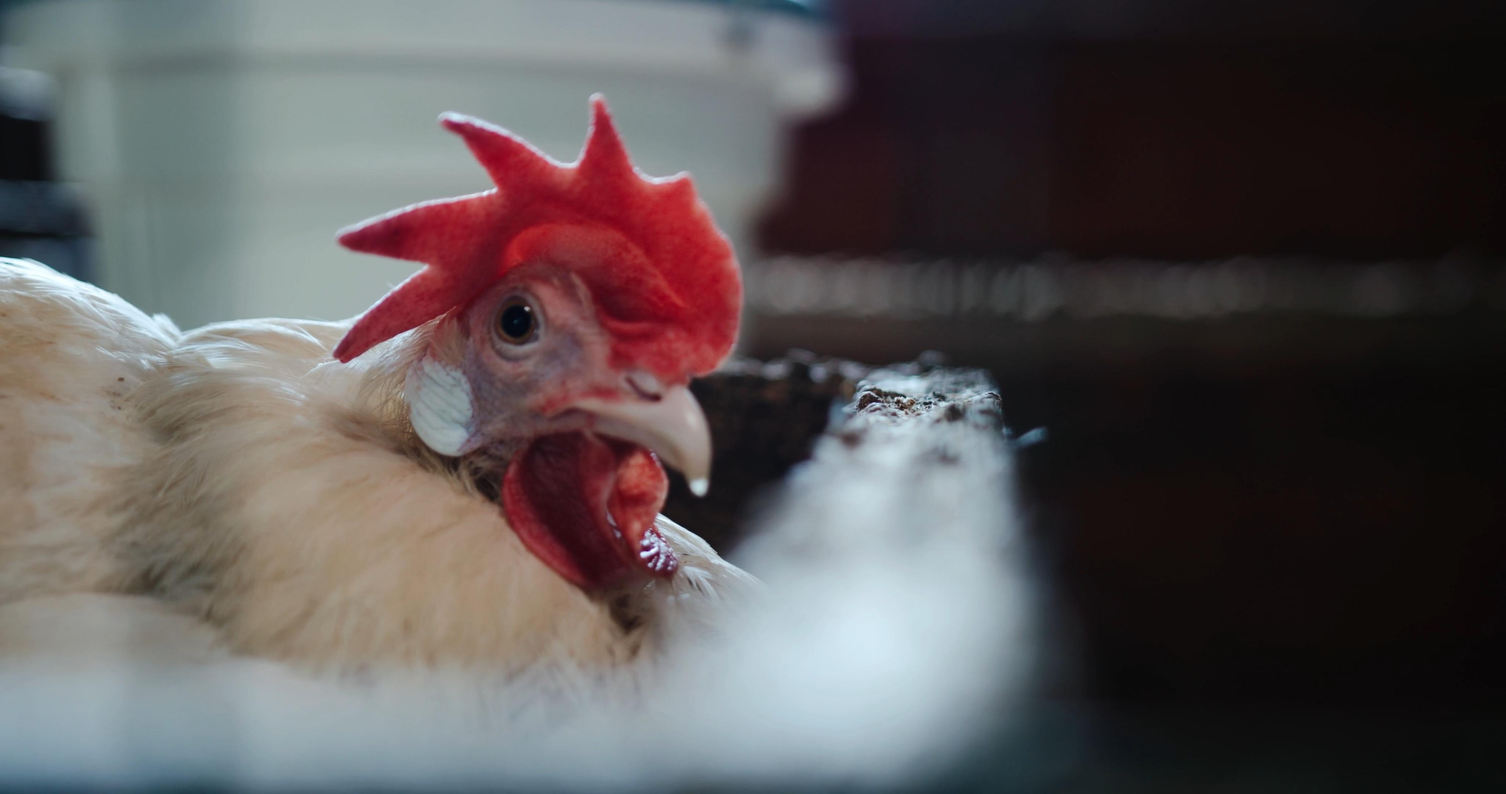Normal: (33, 103, 746, 637)
